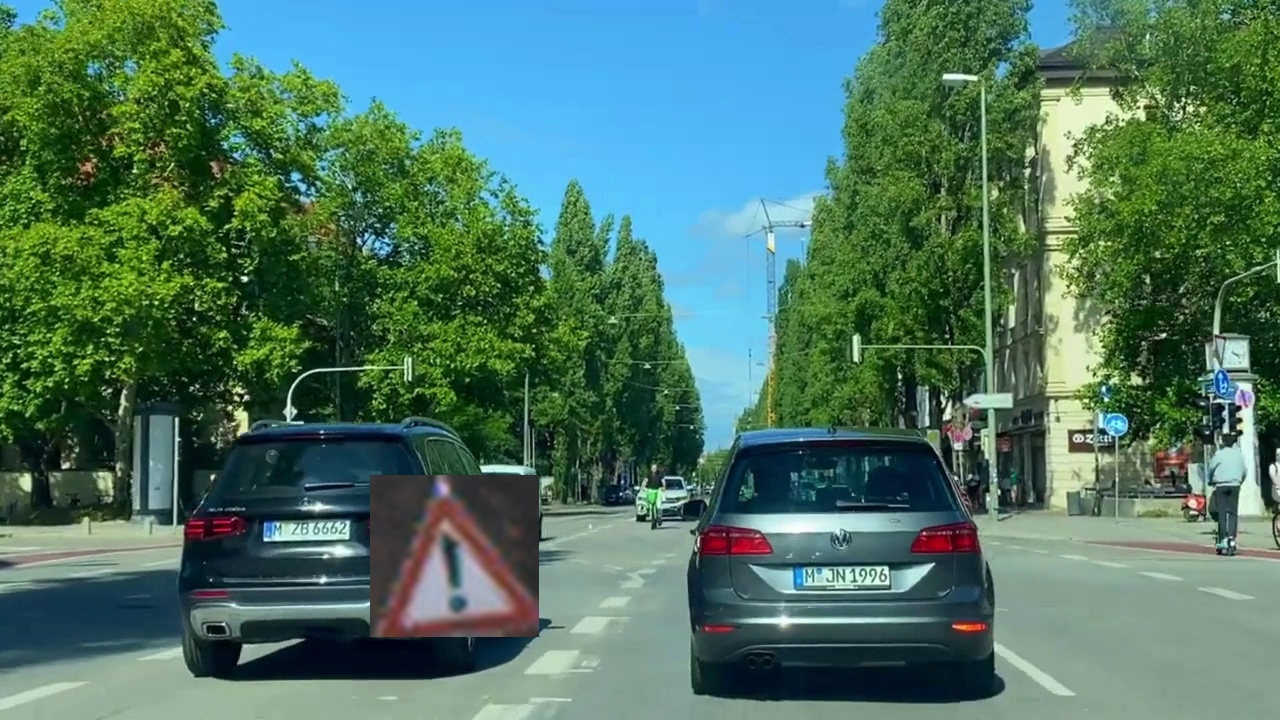Caution: (370, 475, 539, 637)
